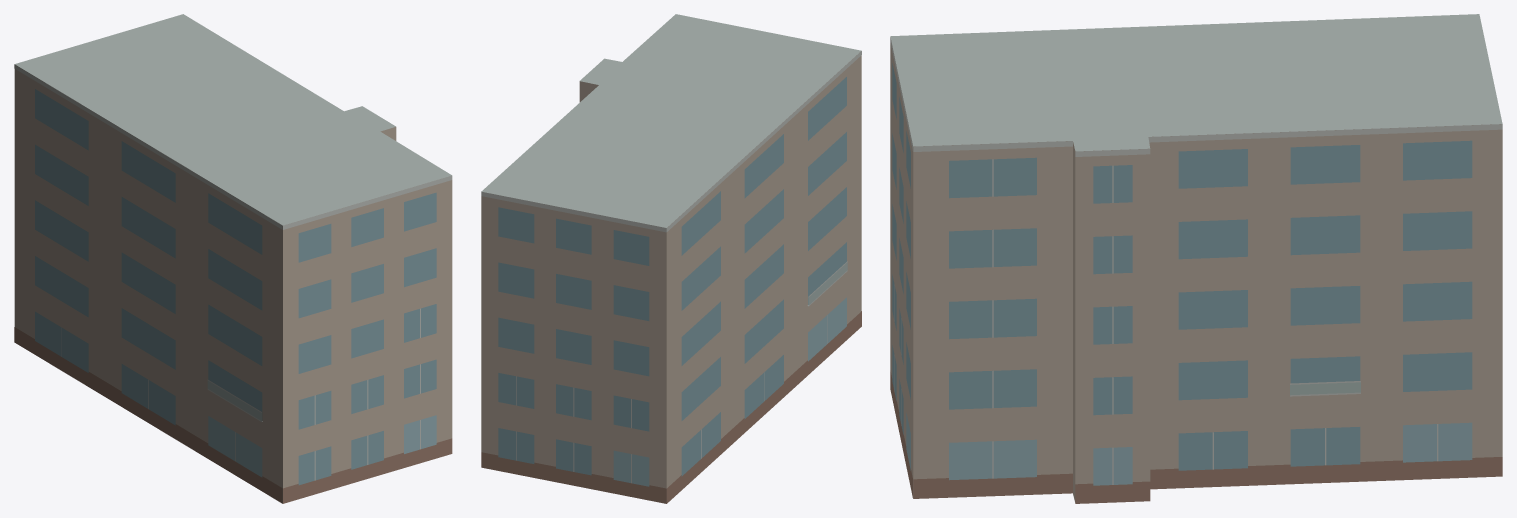
Rendered from survey-upis-32723947.glb.
3 views of the same model, side by side, from view 1: azimuth 30°, elevation 25°; view 2: azimuth 150°, elevation 25°; view 3: azimuth 270°, elevation 25° (orthographic). The views are drawn at different scales.
Parts seen in each view (by area): view 1: survey-upis-32723947.tmp; view 2: survey-upis-32723947.tmp; view 3: survey-upis-32723947.tmp.
Boxes of the visible parts, bbox=[...] form: survey-upis-32723947.tmp: bbox=[14, 14, 452, 503]; survey-upis-32723947.tmp: bbox=[481, 14, 861, 503]; survey-upis-32723947.tmp: bbox=[890, 14, 1502, 503].
Bounding box in the file's own units: 12.76 × 15.25 × 24.02.
